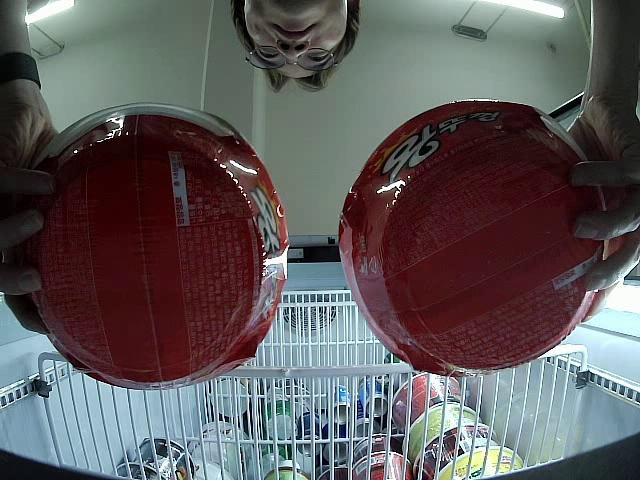00_hand: (566, 114, 640, 325), (0, 104, 49, 335)
10_wangTtukkeong: (17, 102, 288, 392), (339, 102, 601, 376)
